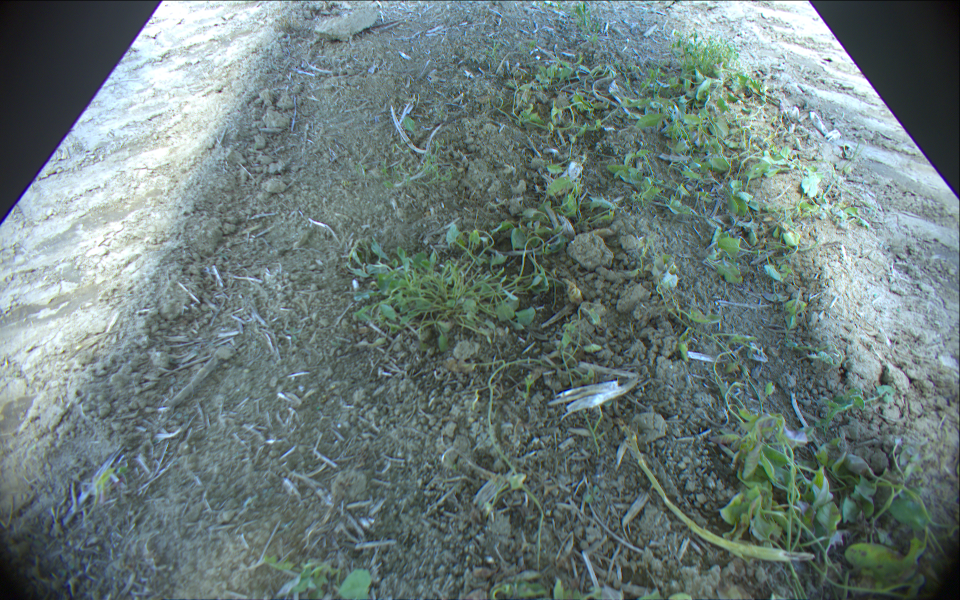aspa: (621, 426, 814, 563)
